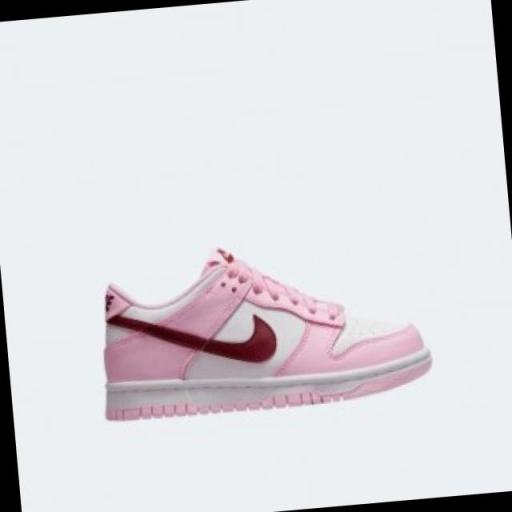Nike: (100, 297, 281, 383)
